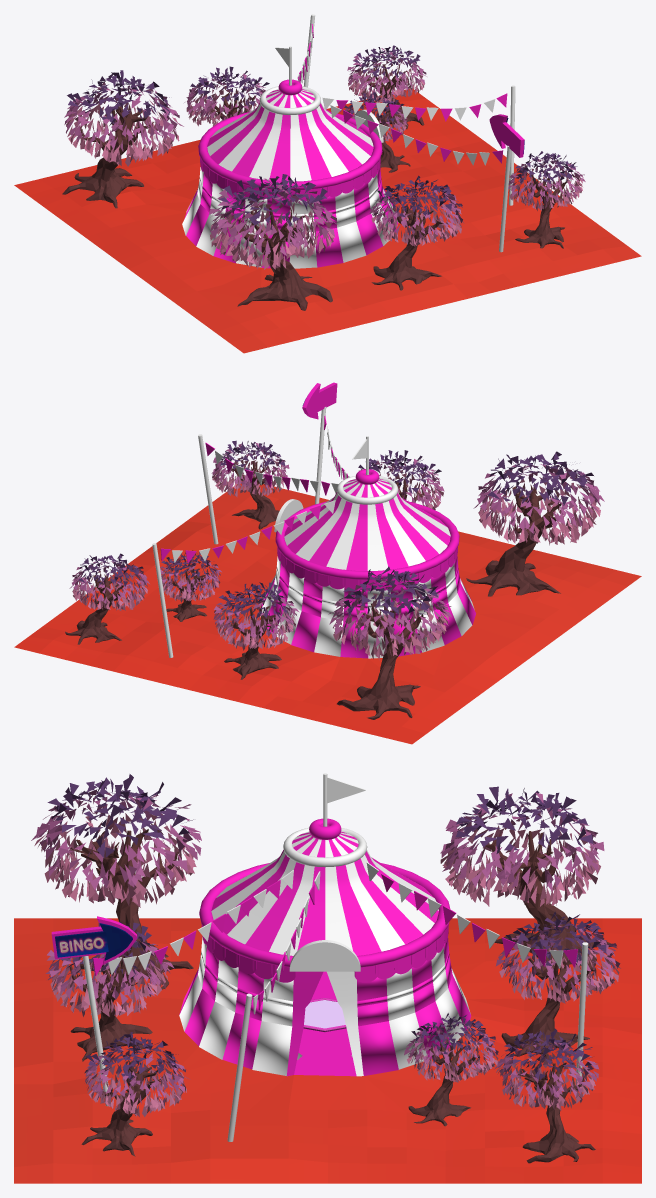
File: bingoScene.glb
The picture shows the model from 3 angles, top to bottom: view 1: azimuth 30°, elevation 25°; view 2: azimuth 150°, elevation 25°; view 3: azimuth 270°, elevation 25°; orthographic projection. The views are drawn at different scales.
Parts seen in each view (by area): view 1: outside, Tree_Leafs_01.006, cylinder.004, Tree_Leafs_01.004, Tree_Leafs_01.003, cylinder, cylinder.001, Tree_Leafs_01.002, Tree_Leafs_01, Tree_Leafs_01.005, circularRing, Tree_Leafs_01.001 (+3 smaller); view 2: outside, Tree_Leafs_01.006, cylinder.004, Tree_Leafs_01.004, cylinder.001, cylinder, Tree_Leafs_01.005, Tree_Leafs_01, Tree_Leafs_01.002, Tree_Leafs_01.001, circularRing, Tree_Leafs_01.003 (+3 smaller); view 3: outside, cylinder.004, Tree_Leafs_01.006, Tree_Leafs_01.004, cylinder, cylinder.001, Tree_Leafs_01.005, Tree_Leafs_01, Tree_Leafs_01.002, Tree_Leafs_01.003, Tree_Leafs_01.001, circularRing (+13 smaller).
Boxes of the visible parts, x1,y1,x2,y2 form: outside: [14, 89, 641, 353]; Tree_Leafs_01.006: [208, 174, 337, 310]; cylinder.004: [182, 117, 398, 268]; Tree_Leafs_01.004: [62, 70, 183, 208]; Tree_Leafs_01.003: [369, 175, 464, 290]; cylinder: [207, 103, 373, 181]; cylinder.001: [207, 102, 373, 181]; Tree_Leafs_01.002: [508, 151, 585, 248]; Tree_Leafs_01: [347, 45, 426, 129]; Tree_Leafs_01.005: [184, 66, 269, 126]; circularRing: [198, 112, 382, 190]; Tree_Leafs_01.001: [343, 92, 410, 172]; outside: [14, 481, 641, 744]; Tree_Leafs_01.006: [466, 451, 604, 596]; cylinder.004: [260, 556, 475, 658]; Tree_Leafs_01.004: [328, 566, 452, 719]; cylinder.001: [284, 492, 450, 570]; cylinder: [284, 492, 450, 570]; Tree_Leafs_01.005: [213, 582, 299, 679]; Tree_Leafs_01: [65, 553, 149, 644]; Tree_Leafs_01.002: [211, 440, 289, 529]; Tree_Leafs_01.001: [160, 550, 221, 621]; circularRing: [275, 501, 459, 579]; Tree_Leafs_01.003: [358, 450, 444, 510]; outside: [14, 918, 641, 1183]; cylinder.004: [179, 937, 471, 1075]; Tree_Leafs_01.006: [31, 774, 201, 989]; Tree_Leafs_01.004: [440, 786, 611, 977]; cylinder: [211, 849, 438, 955]; cylinder.001: [211, 850, 438, 955]; Tree_Leafs_01.005: [495, 911, 620, 1059]; Tree_Leafs_01: [494, 1028, 599, 1163]; Tree_Leafs_01.002: [81, 1032, 190, 1156]; Tree_Leafs_01.003: [45, 921, 174, 1061]; Tree_Leafs_01.001: [404, 1013, 498, 1126]; circularRing: [199, 863, 450, 967].
Size of what is drawn, in the model's own units: 64 by 28.37 by 64.
Materials: 5 (5 with a texture image).
